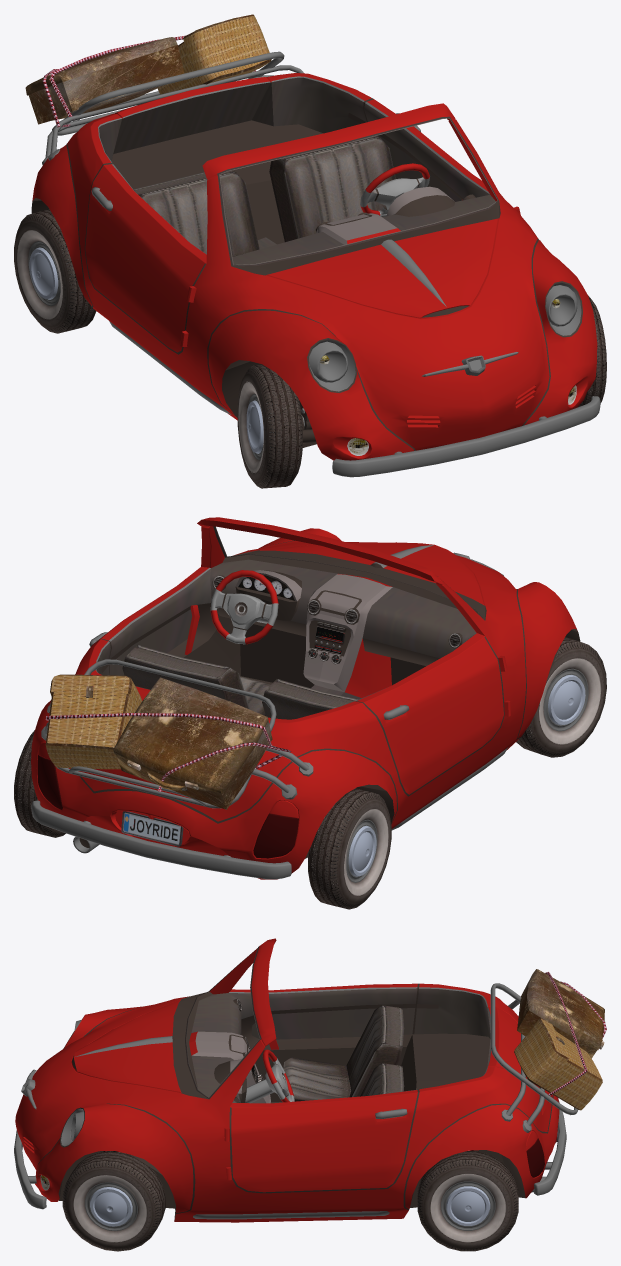
Rendered from car2.glb.
3 renders of one model, top to bottom at view 1: azimuth 30°, elevation 25°; view 2: azimuth 150°, elevation 25°; view 3: azimuth 270°, elevation 25°, orthographic. The views are drawn at different scales.
Visible parts, largest first — view 1: polySurface6.30, polySurface7.9, wheel3.25, suitcase_leather.15, wheel2.26, polySurface8.10, polySurface4.22, suitcase_basket.14, luggage_rack.16, polySurface9.11, polySurface5.29, bungee_cords.17 (+1 smaller); view 2: polySurface6.30, suitcase_leather.15, wheel2.26, suitcase_basket.14, wheel3.25, polySurface3.21, polySurface7.9, luggage_rack.16, polySurface9.11, polySurface8.10, wheel1.27, bungee_cords.17 (+1 smaller); view 3: polySurface6.30, wheel1.27, polySurface5.29, polySurface8.10, suitcase_basket.14, suitcase_leather.15, luggage_rack.16, polySurface9.11, polySurface7.9, polySurface3.21, polySurface4.22, bungee_cords.17.
Part boxes in pixels (bbox=[...]): polySurface6.30: bbox=[31, 73, 597, 460]; polySurface7.9: bbox=[269, 136, 395, 242]; wheel3.25: bbox=[237, 364, 302, 488]; suitcase_leather.15: bbox=[25, 37, 184, 124]; wheel2.26: bbox=[14, 209, 96, 333]; polySurface8.10: bbox=[134, 170, 259, 256]; polySurface4.22: bbox=[332, 396, 600, 477]; suitcase_basket.14: bbox=[157, 14, 271, 94]; luggage_rack.16: bbox=[42, 51, 303, 165]; polySurface9.11: bbox=[360, 163, 429, 216]; polySurface5.29: bbox=[570, 295, 606, 407]; bungee_cords.17: bbox=[42, 35, 255, 127]; polySurface6.30: bbox=[31, 517, 580, 879]; suitcase_leather.15: bbox=[113, 677, 272, 809]; wheel2.26: bbox=[308, 788, 391, 909]; suitcase_basket.14: bbox=[45, 674, 142, 769]; wheel3.25: bbox=[516, 637, 606, 757]; polySurface3.21: bbox=[31, 800, 291, 879]; polySurface7.9: bbox=[122, 645, 270, 715]; luggage_rack.16: bbox=[41, 659, 313, 808]; polySurface9.11: bbox=[210, 570, 278, 644]; polySurface8.10: bbox=[262, 679, 358, 719]; wheel1.27: bbox=[14, 730, 65, 837]; bungee_cords.17: bbox=[45, 713, 290, 791]; polySurface6.30: bbox=[15, 938, 559, 1222]; wheel1.27: bbox=[417, 1151, 518, 1251]; polySurface5.29: bbox=[62, 1151, 165, 1251]; polySurface8.10: bbox=[283, 1005, 404, 1101]; suitcase_basket.14: bbox=[514, 1018, 602, 1110]; suitcase_leather.15: bbox=[517, 969, 605, 1058]; luggage_rack.16: bbox=[490, 983, 577, 1132]; polySurface9.11: bbox=[245, 1049, 294, 1103]; polySurface7.9: bbox=[360, 1063, 404, 1096]; polySurface3.21: bbox=[534, 1098, 566, 1195]; polySurface4.22: bbox=[14, 1130, 46, 1209]; bungee_cords.17: bbox=[545, 972, 606, 1095].
Bounding box in the file's own units: 0.0168 × 0.0111 × 0.0294.
Materials: 57 (50 with a texture image).
